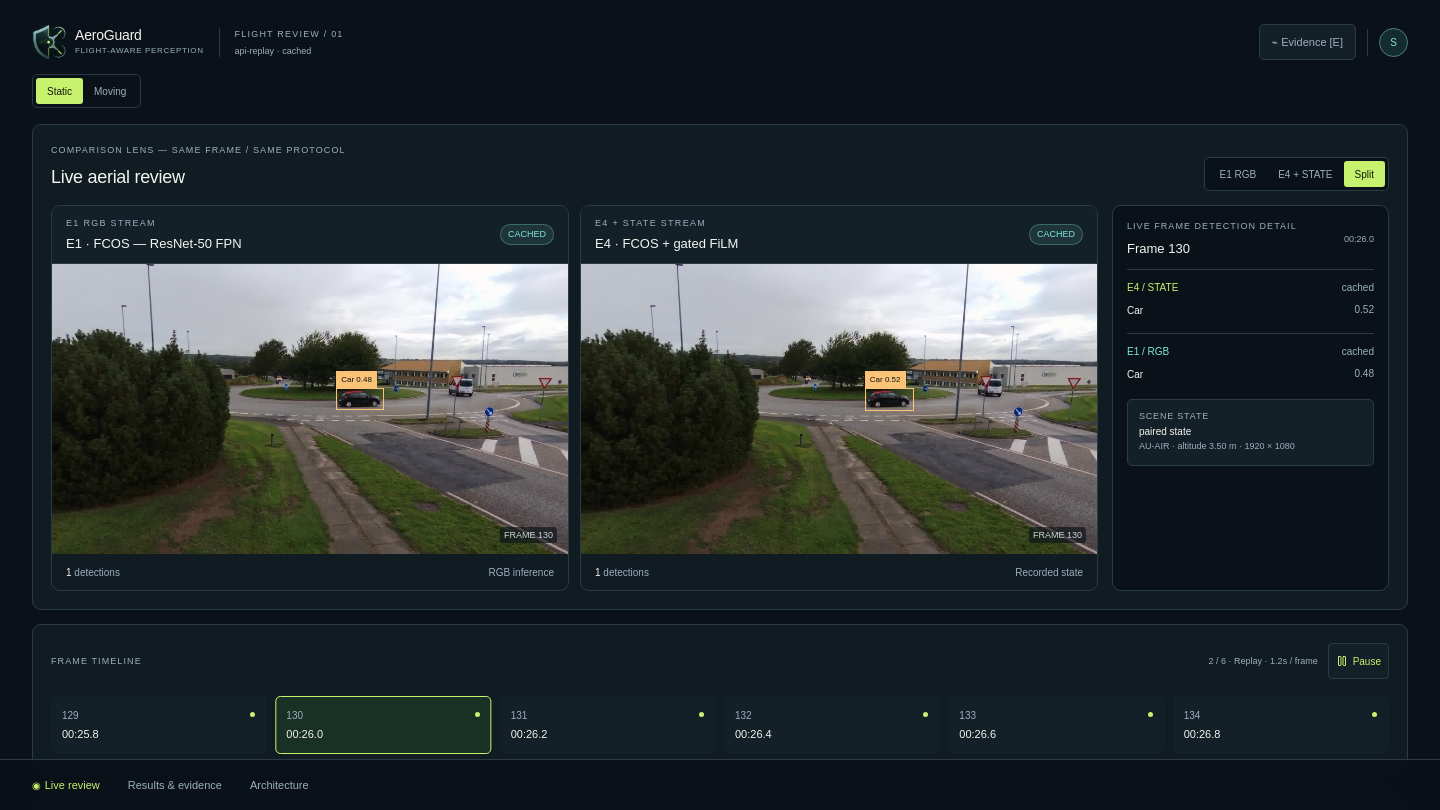
real replay workflow › advances API frames and synchronizes timeline, detail, images and history; pauses and seeks
This screenshot has width=1440, height=810.
Expected: the footer "1 detections RGB inference" is shown, 66,567 -> 554,578
Expected: the footer "1 detections Recorded state" is shown, 595,567 -> 1083,578
What coordinates should you click on to do the following:
click the button with aria-label "Pause replay"
I would click on:
 (1358, 661)
Its box is 1328,643 -> 1389,679.
Wait 2400 ms
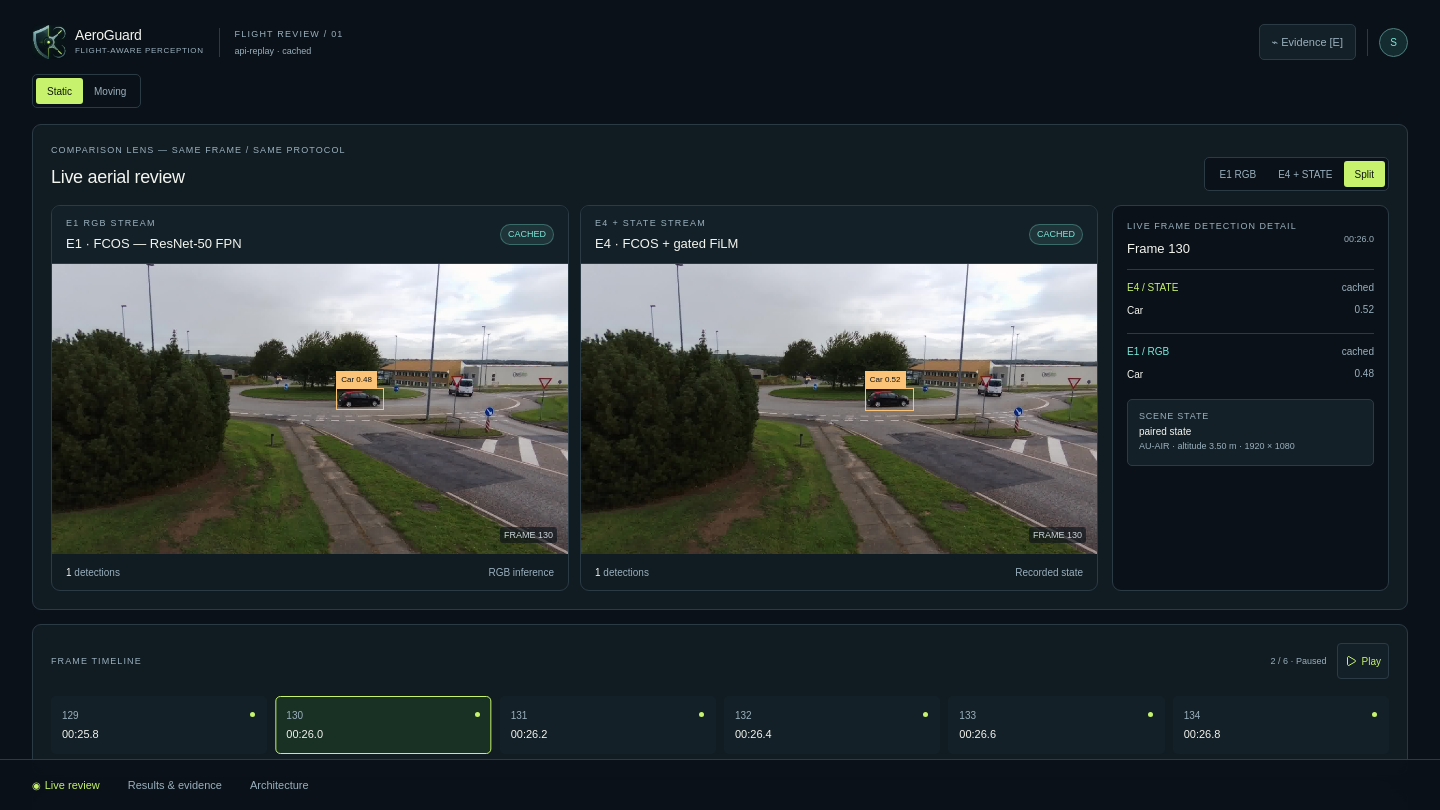
Expected: the heading "Frame 130" is shown, 1127,241 -> 1190,256
What coordinates should you click on to do the following:
click the button named "Frame 133, 00:26.6, valid"
I would click on:
 (1056, 725)
Its box is 948,696 -> 1165,754.
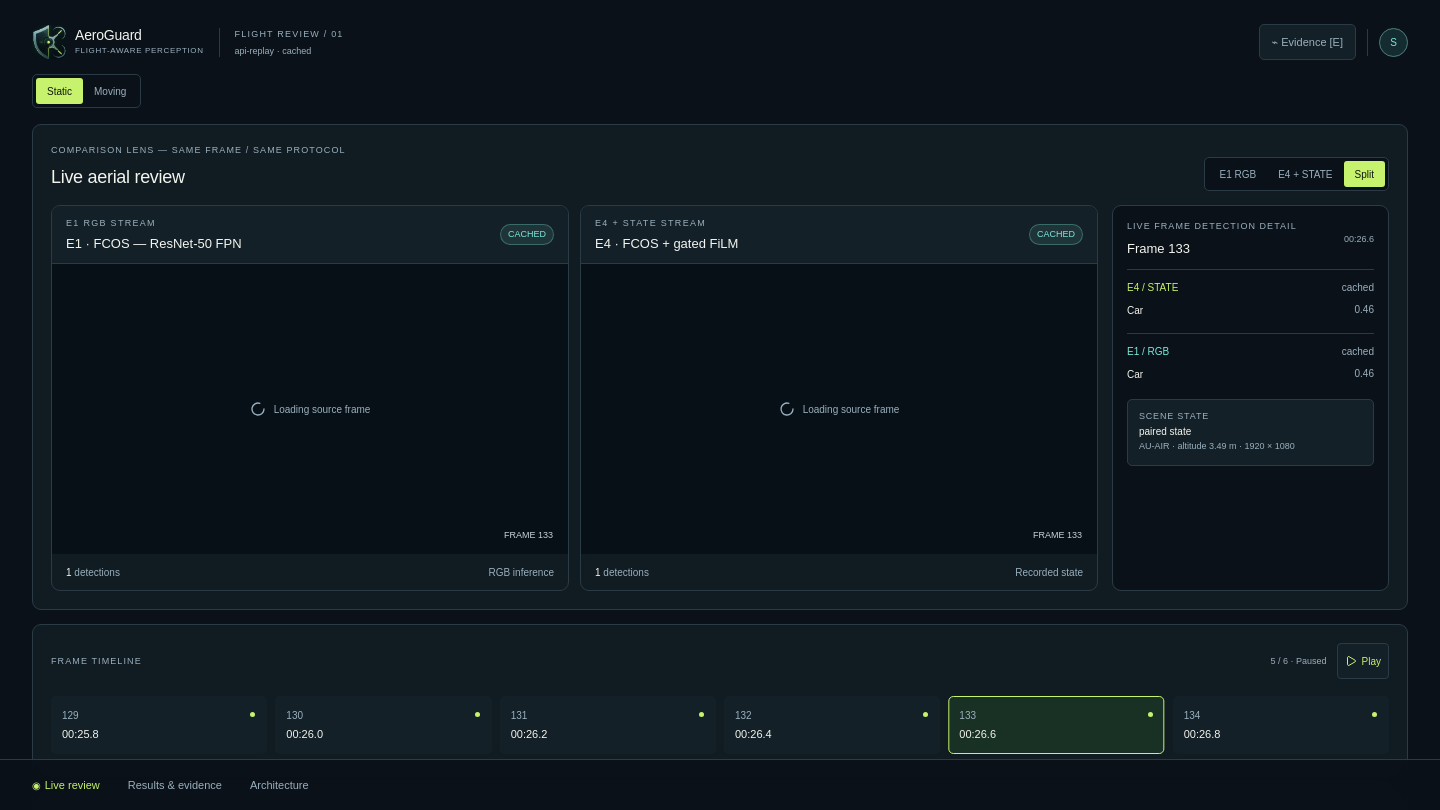
Expected: the footer "1 detections Recorded state" is shown, 595,567 -> 1083,578
Now the button with aria-label "Play replay" is shown
What coordinates should you click on to do the following:
click the button with aria-label "Play replay"
I would click on:
 (1363, 661)
Its box is 1336,643 -> 1389,679.
Wait 2400 ms
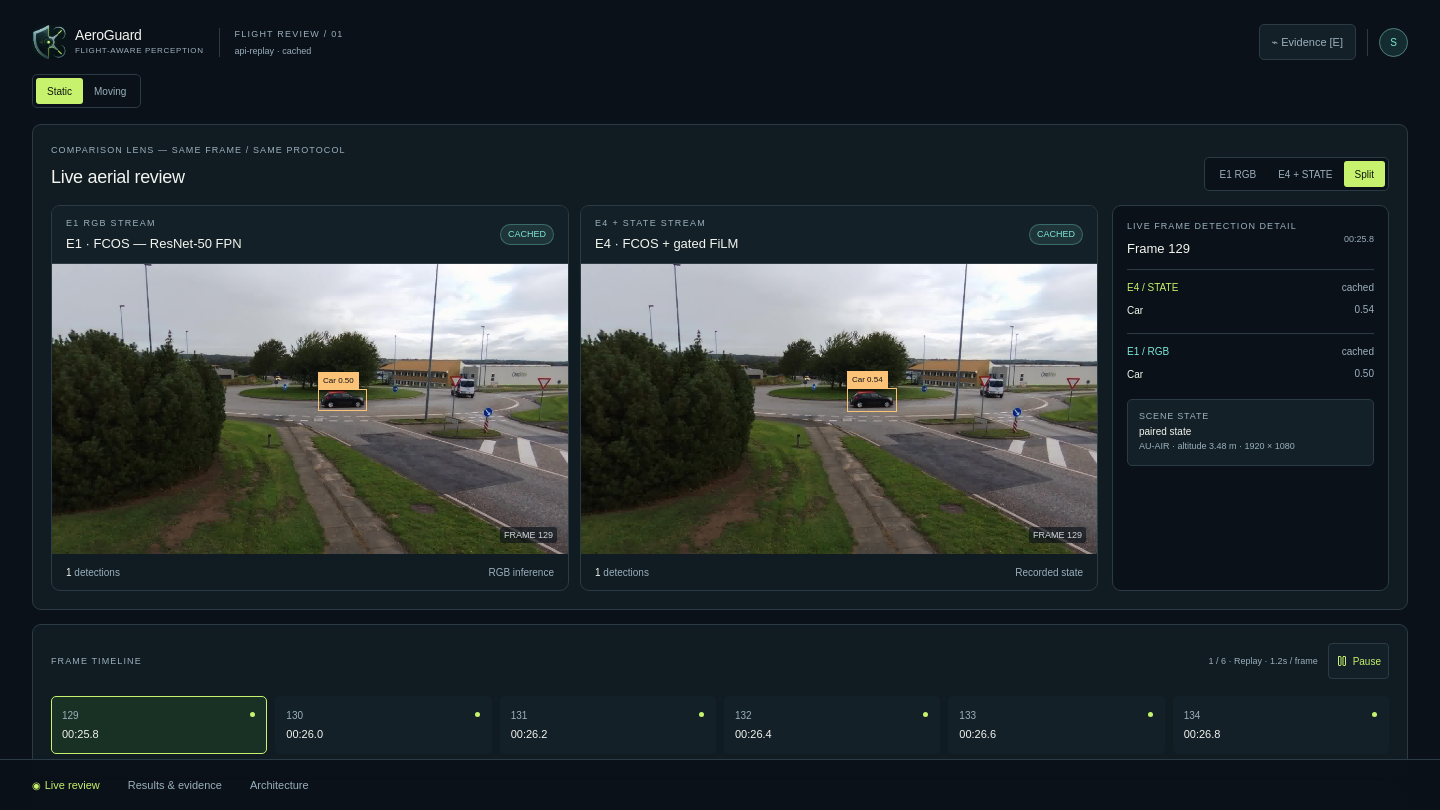
Now the heading "Frame 129" is shown, box 1127,241 -> 1190,256
